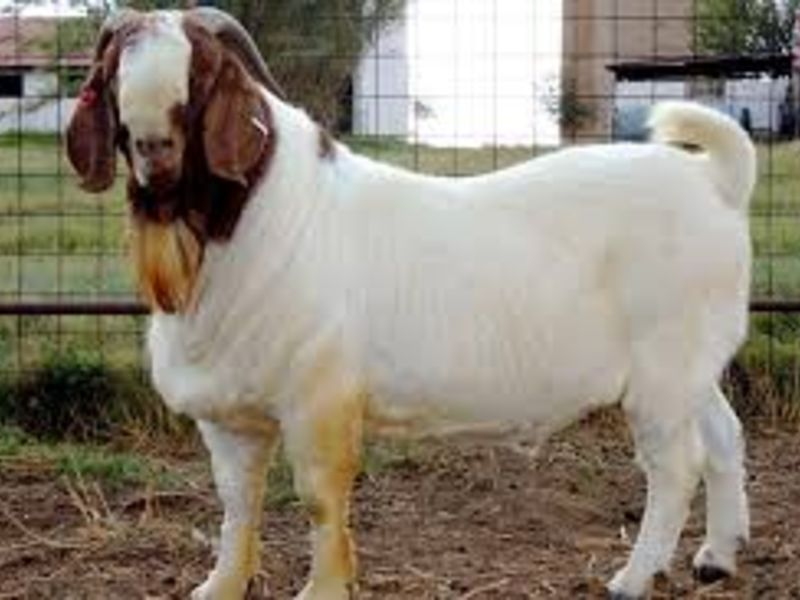goat: (67, 4, 766, 600)
